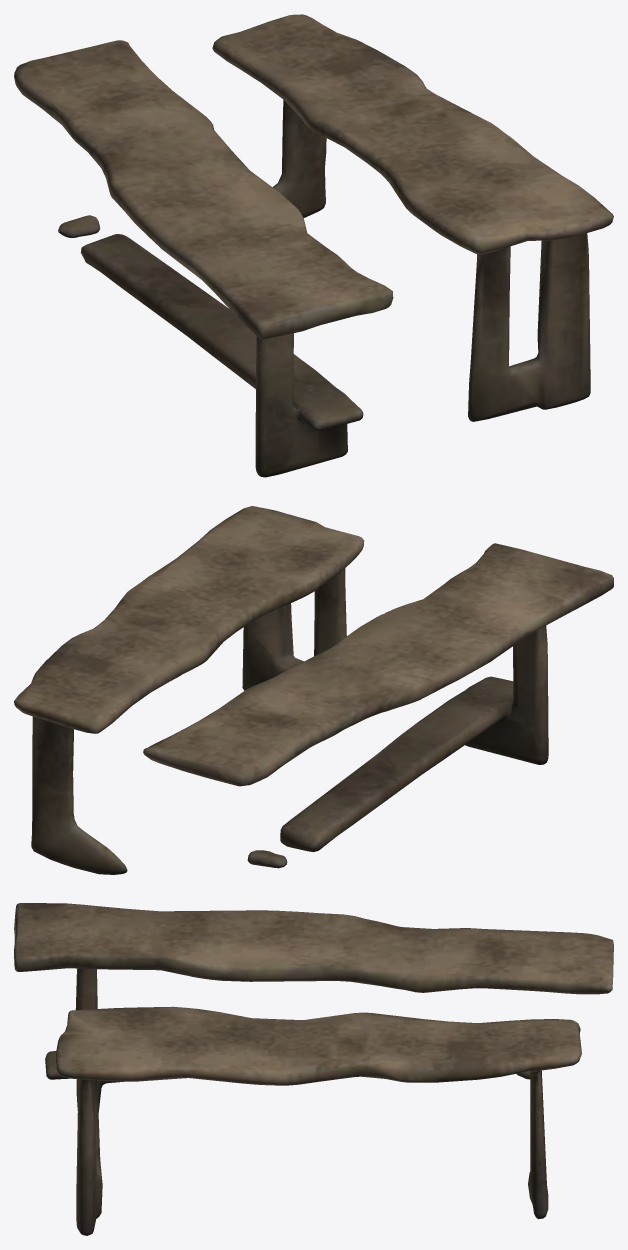
Rendered from chipped-wood-banquet-table-v001.glb.
3 views of the same model, one above another, from view 1: azimuth 30°, elevation 25°; view 2: azimuth 150°, elevation 25°; view 3: azimuth 270°, elevation 25° (orthographic). The views are drawn at different scales.
Visible parts, largest first — view 1: chipped-wood-banquet-table; view 2: chipped-wood-banquet-table; view 3: chipped-wood-banquet-table.
Part boxes in pixels (left/top/right/bottom): chipped-wood-banquet-table: left=14, top=14, right=613, bottom=477; chipped-wood-banquet-table: left=14, top=506, right=613, bottom=874; chipped-wood-banquet-table: left=14, top=903, right=613, bottom=1235.
Bounding box in the file's own units: 1.6 × 0.7698 × 2.36.
Materials: 1 (1 with a texture image).
